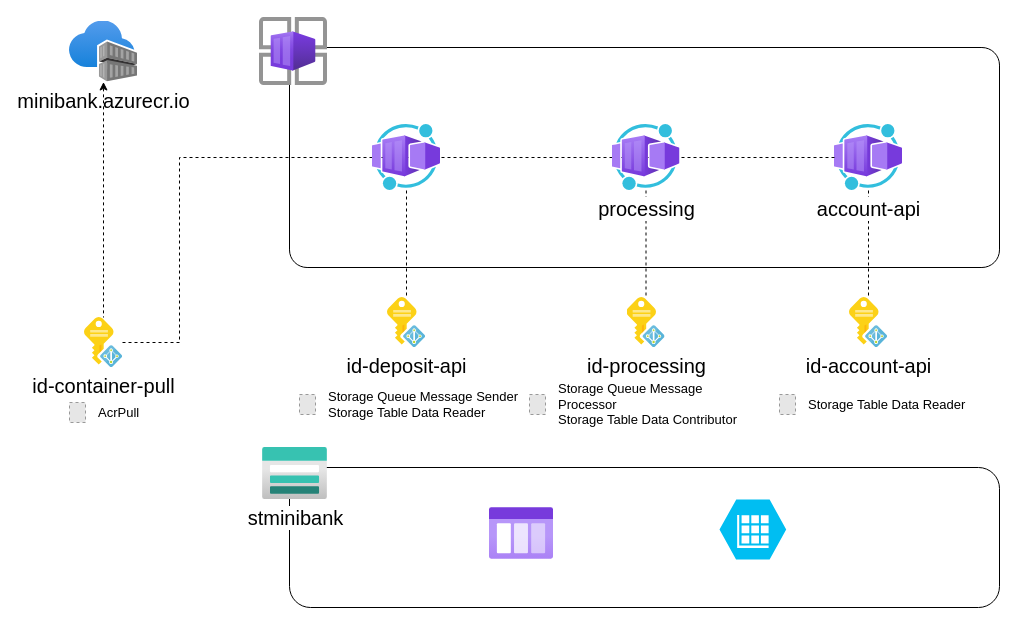
This 1029x625 diagram has some shape labels left out. Grey dashed boxes stand in for pictures. Each missing label, with the centre of its shape:
"accounts" goes at (752,529).
"appc-minibank" goes at (293,51).
"deposit-api" goes at (406,157).
"deposit-queue" goes at (521,533).
